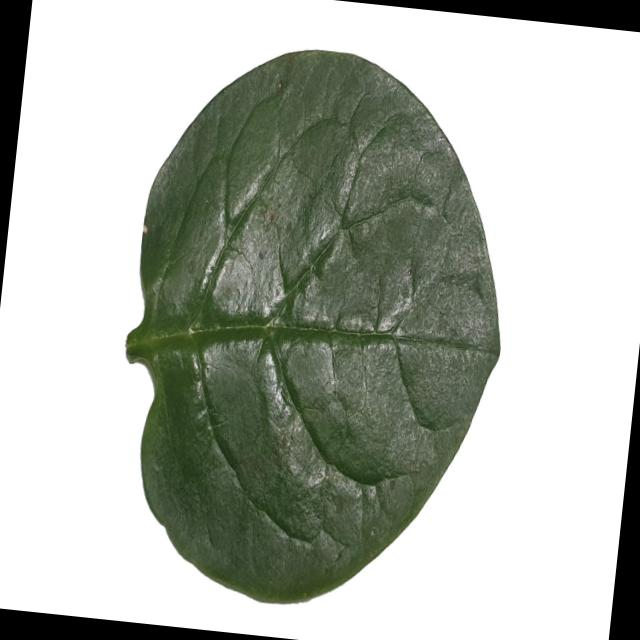Medicinal-Basale: (96, 34, 528, 627)
